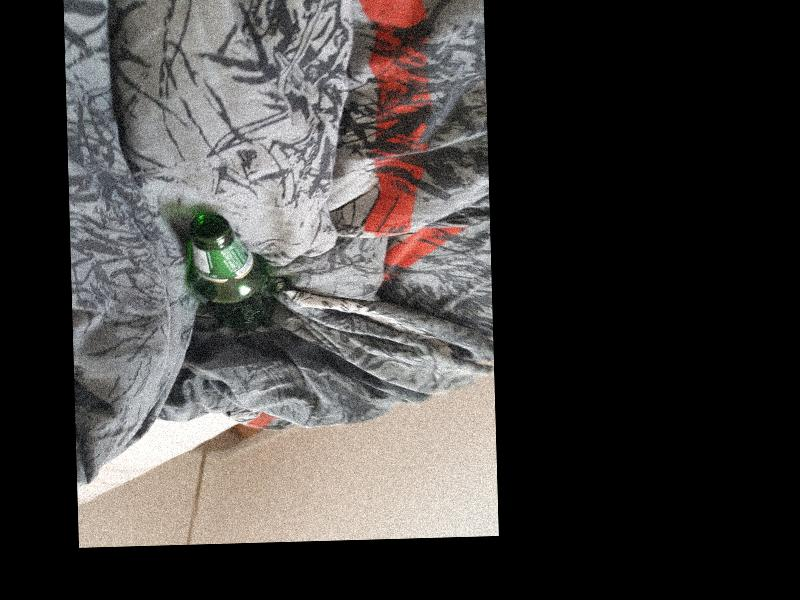Beer: (185, 211, 274, 332)
